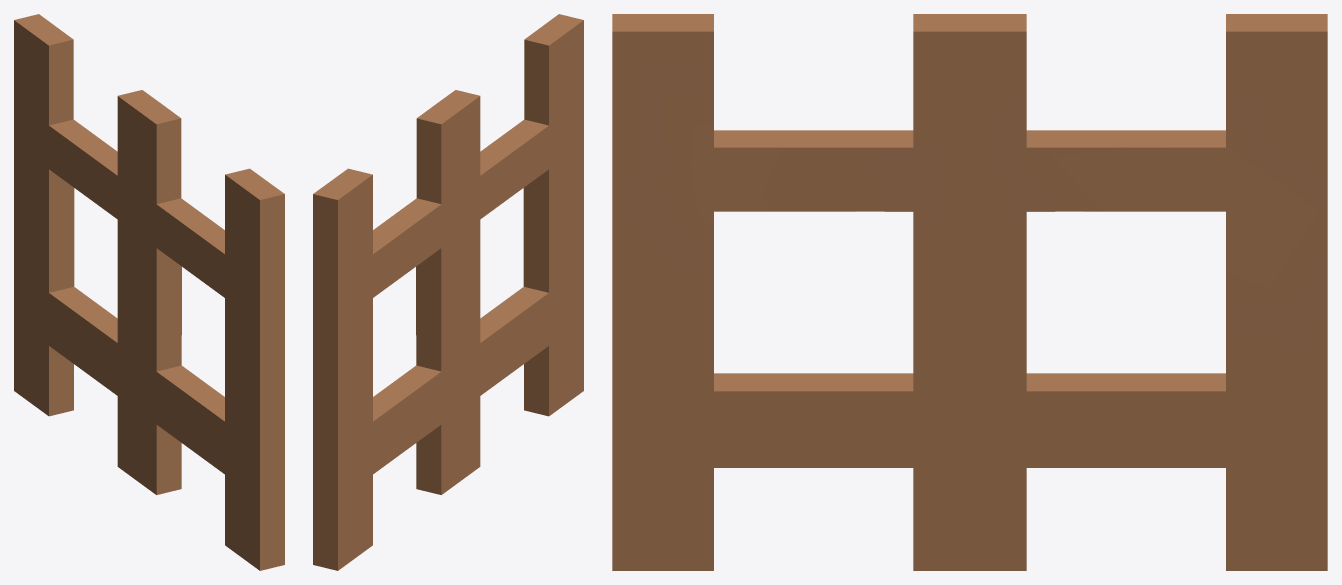
Rendered from valla.FBX.
The picture shows the model from 3 angles, left to right: view 1: azimuth 30°, elevation 25°; view 2: azimuth 150°, elevation 25°; view 3: azimuth 270°, elevation 25°; orthographic projection. The views are drawn at different scales.
Visible parts, largest first — view 1: Box001; view 2: Box001; view 3: Box001.
Part boxes in pixels (x1,y1,x2,y2): Box001: (14,14,284,570); Box001: (313,14,583,570); Box001: (612,14,1327,570).
Bounding box in the file's own units: 1.46 × 20.3 × 24.41.
